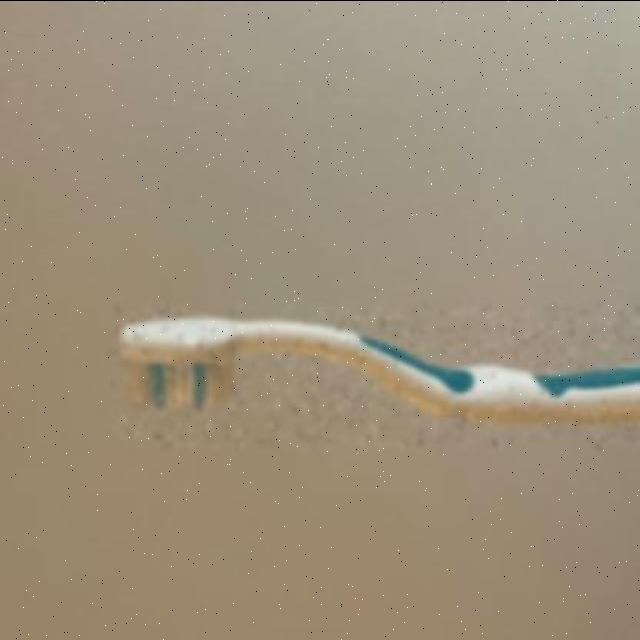toothbrush: (110, 304, 640, 448)
